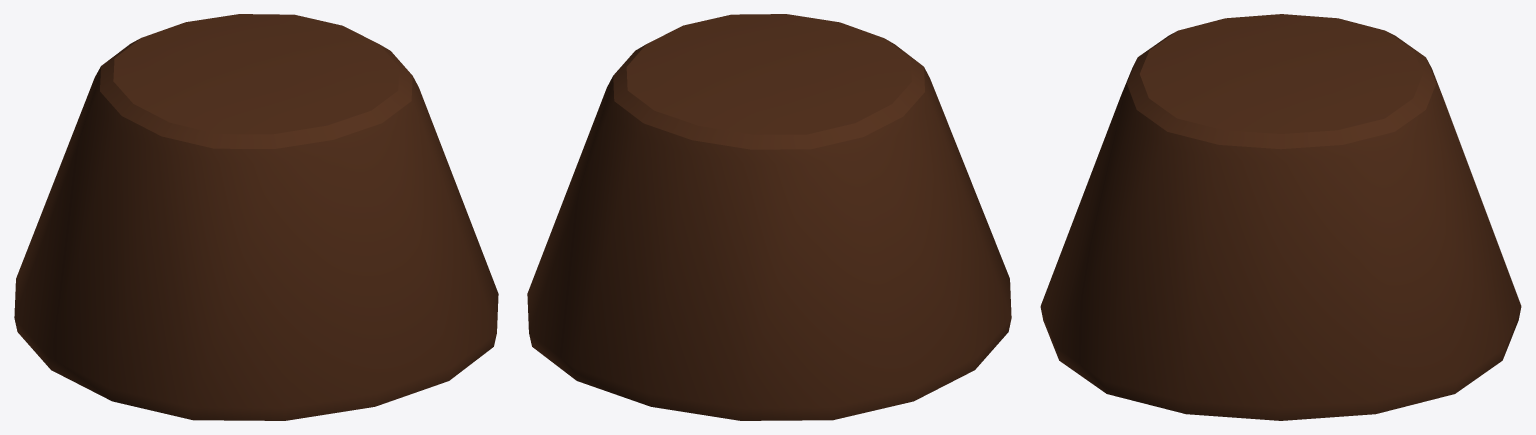
File: RockPlatforms_Medium.obj
3 renders of one model, left to right at view 1: azimuth 30°, elevation 25°; view 2: azimuth 150°, elevation 25°; view 3: azimuth 270°, elevation 25°, orthographic.
Parts seen in each view (by area): view 1: RockPlatforms_Medium_Cube.380; view 2: RockPlatforms_Medium_Cube.380; view 3: RockPlatforms_Medium_Cube.380.
Part boxes in pixels (x1,y1,x2,y2): RockPlatforms_Medium_Cube.380: (14, 14, 498, 420); RockPlatforms_Medium_Cube.380: (527, 14, 1011, 420); RockPlatforms_Medium_Cube.380: (1040, 14, 1521, 420).
Bounding box in the file's own units: 4.81 × 2.91 × 4.81.
